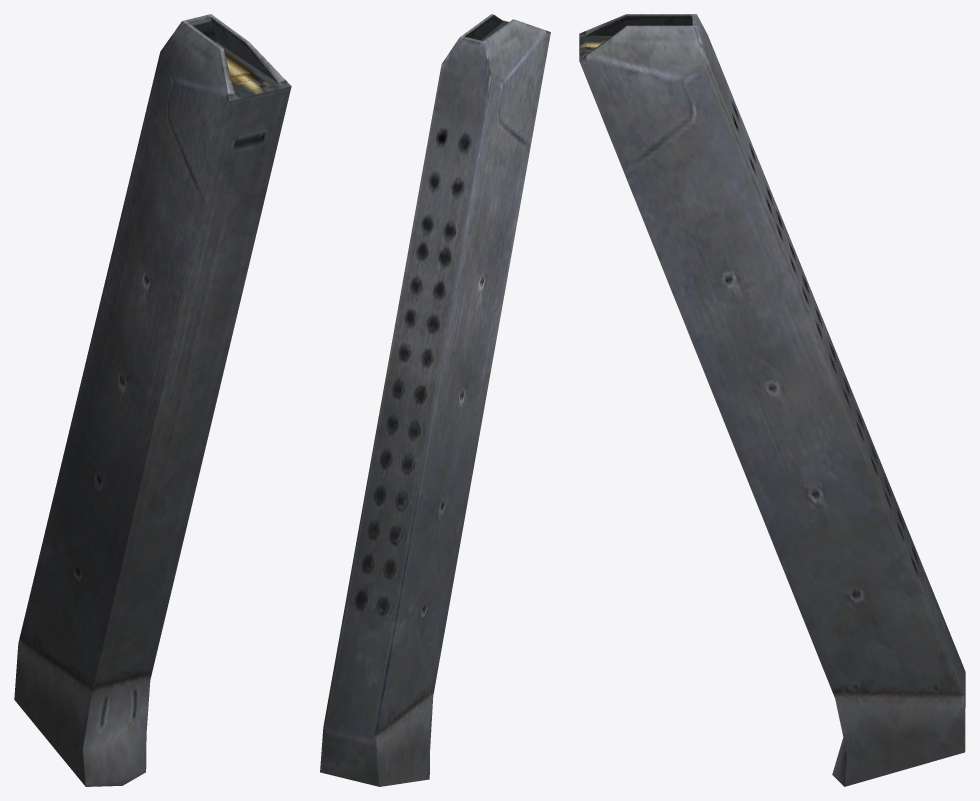
File: Pistol_sq_dj_01_lod2_Magazine_LOD_(000018).glb
3 renders of one model, left to right at view 1: azimuth 30°, elevation 25°; view 2: azimuth 150°, elevation 25°; view 3: azimuth 270°, elevation 25°, orthographic. The views are drawn at different scales.
Visible parts, largest first — view 1: sq_dj_01_lod2; view 2: sq_dj_01_lod2; view 3: sq_dj_01_lod2.
Part boxes in pixels (left/top/right/bottom): sq_dj_01_lod2: left=14, top=14, right=291, bottom=786; sq_dj_01_lod2: left=320, top=14, right=550, bottom=786; sq_dj_01_lod2: left=579, top=14, right=965, bottom=786.
Size of the model in its own units: 0.034 by 0.3717 by 0.1725.
Materials: 1 (1 with a texture image).
